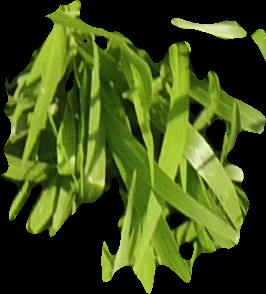grass: (1, 1, 264, 292)
